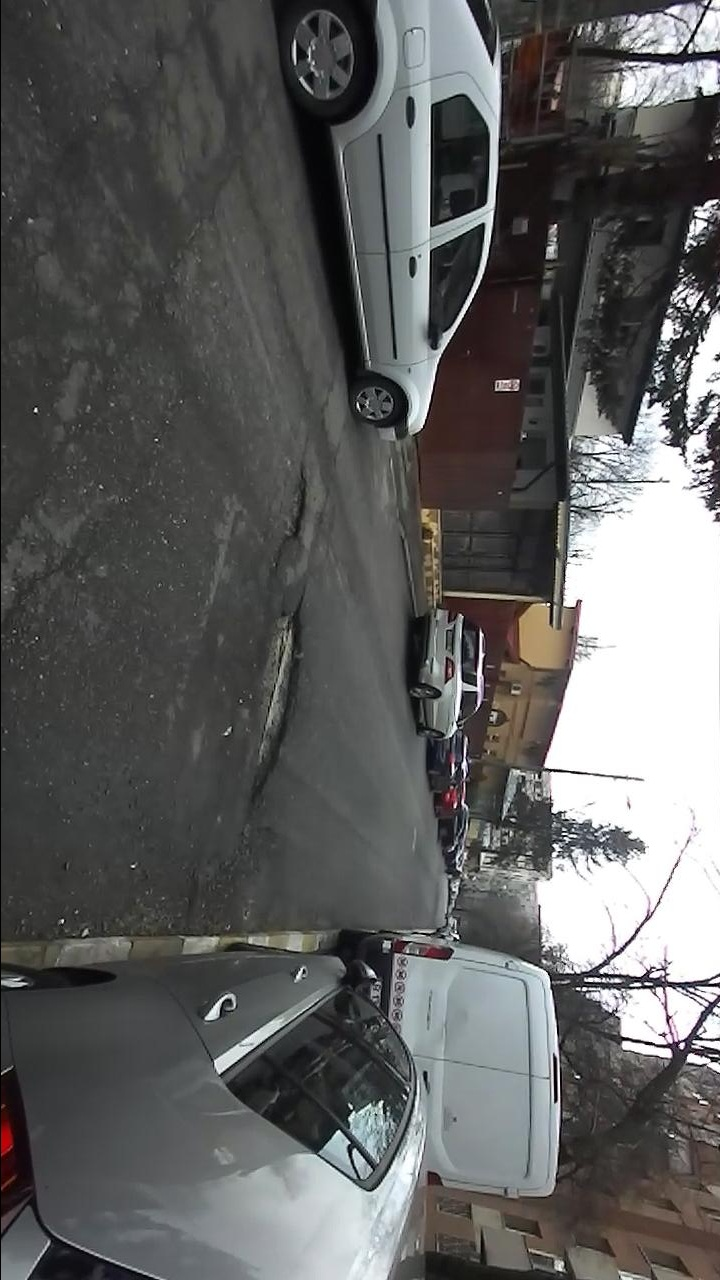pothole: (242, 586, 310, 818), (269, 458, 313, 578)
